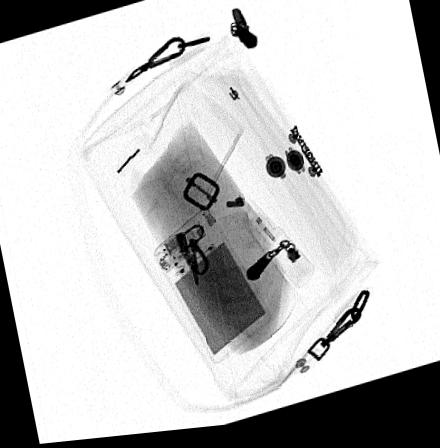Powerbank: (151, 212, 269, 370)
